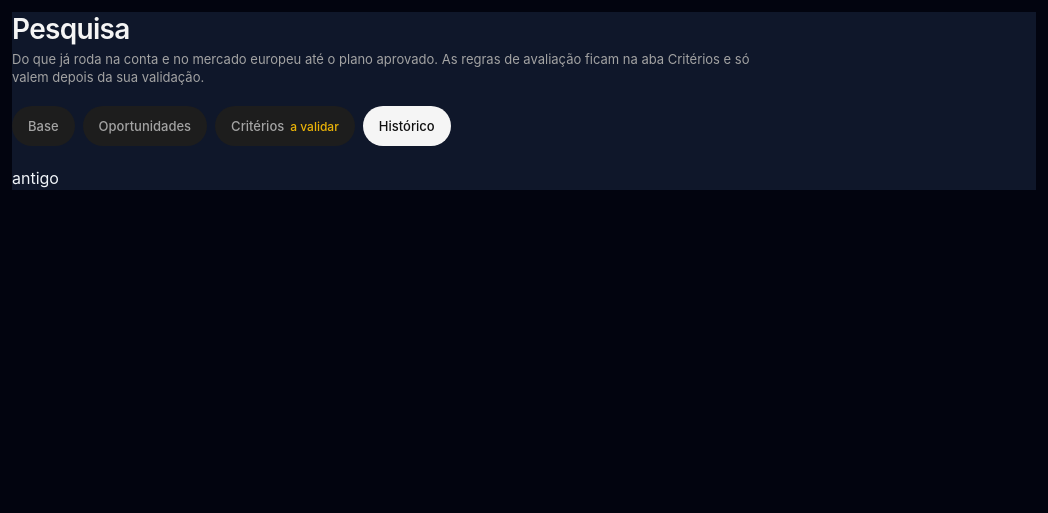
NORQVA-0029 — tela Pesquisa › abre com as quatro abas e avisa que os critérios estão a validar
The image size is (1048, 513).
Check: the text "a validar" is shown, box top-left (290, 119), bottom-right (339, 134)
Check: the text "antigo" is shown, box top-left (12, 168), bottom-right (59, 188)
Click the tab "Oportunidades": [145, 126] box top-left (83, 106), bottom-right (207, 146)
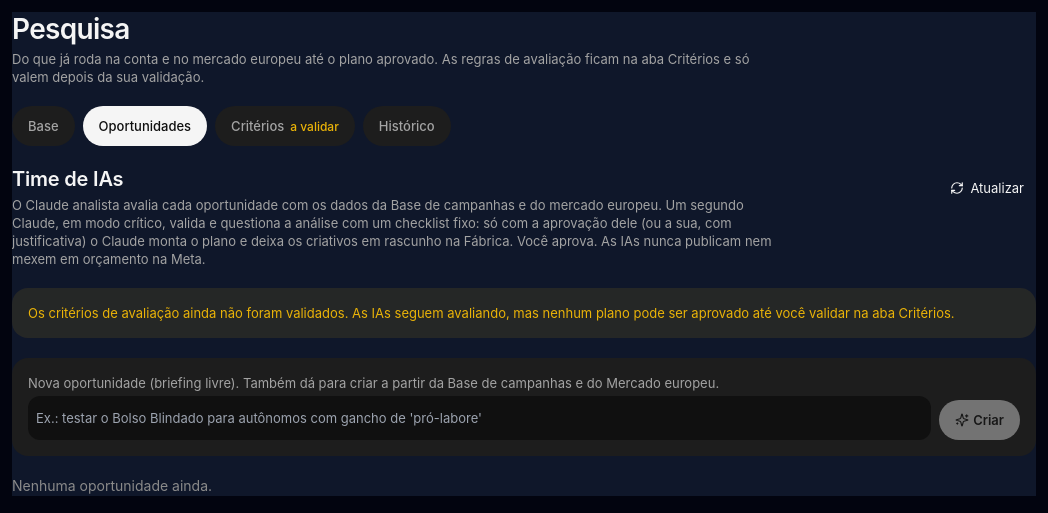
Check: the text with test id "criteria-not-validated" is shown, box top-left (12, 288), bottom-right (1036, 338)
